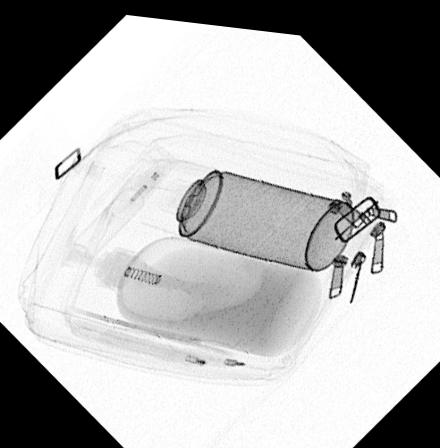Sprayer: (136, 154, 354, 263)
